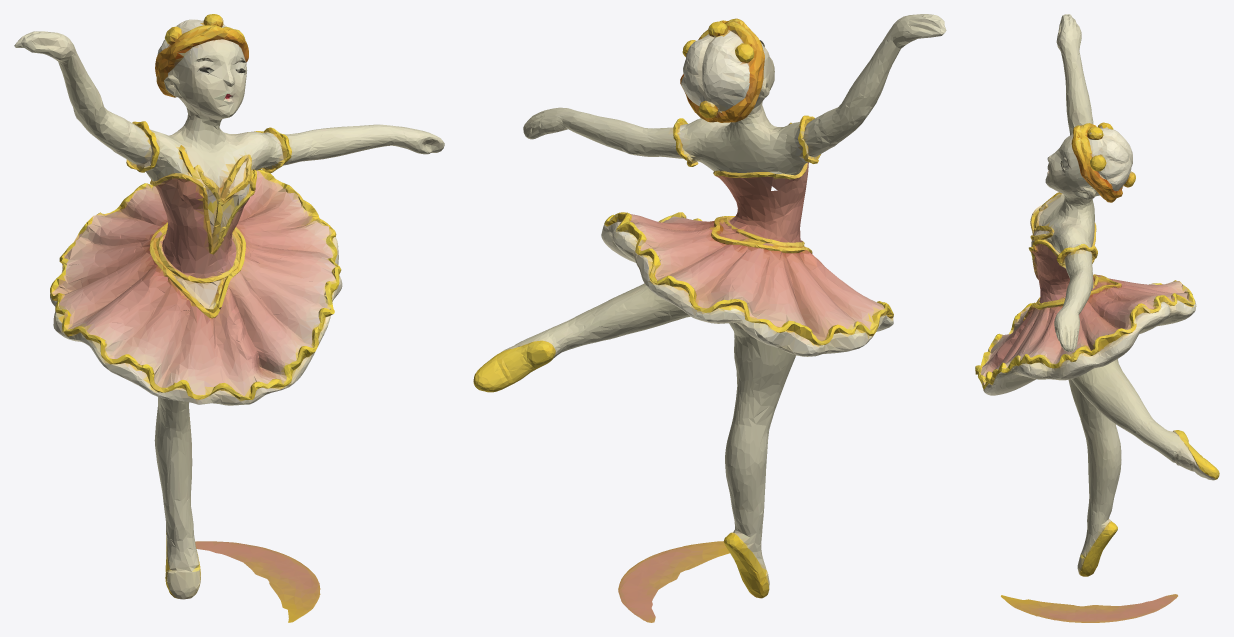
File: dancer.glb
3 renders of one model, left to right at view 1: azimuth 30°, elevation 25°; view 2: azimuth 150°, elevation 25°; view 3: azimuth 270°, elevation 25°, orthographic. The views are drawn at different scales.
Parts seen in each view (by area): view 1: geometry_0; view 2: geometry_0; view 3: geometry_0.
Part boxes in pixels (x1,y1,x2,y2): geometry_0: (14,14,444,622); geometry_0: (473,14,946,622); geometry_0: (975,14,1219,622).
Bounding box in the file's own units: 0.0692 × 0.095 × 0.0425.
1 material, 1 textured.
